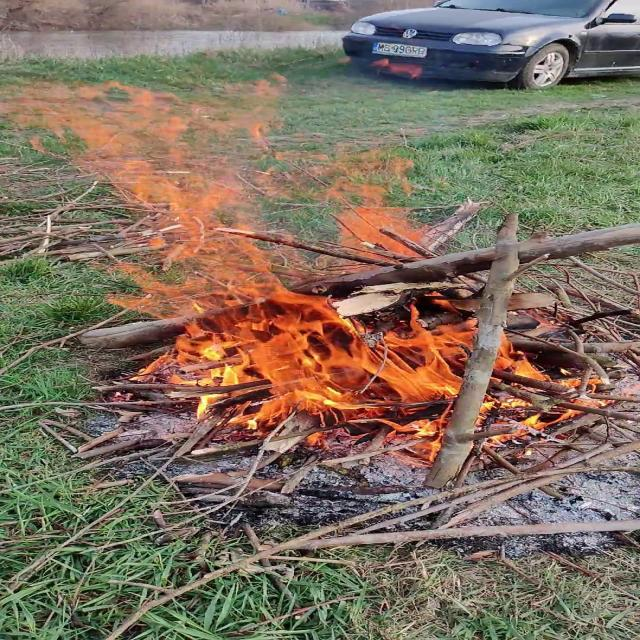Fire: (0, 59, 583, 443)
